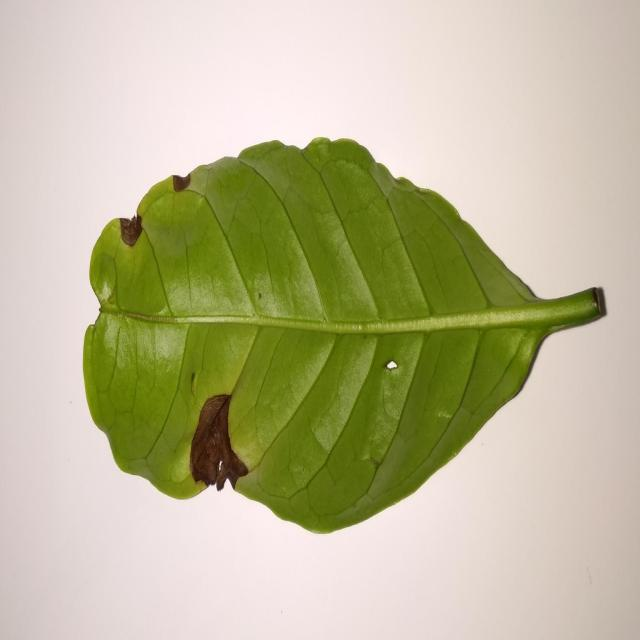Enfermedad-Antracnosis: (81, 138, 608, 537)
